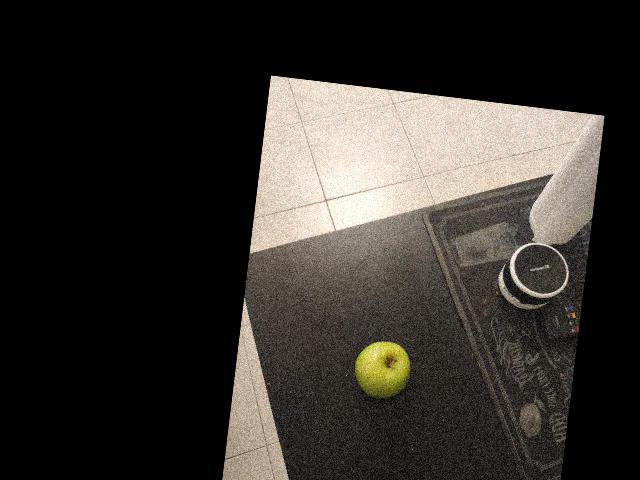apple: (249, 185, 356, 265)
